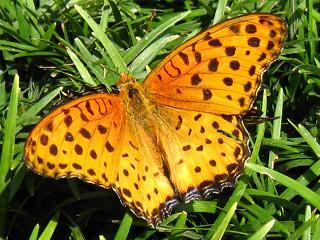Argyreus hyperbius: (16, 6, 290, 225)
butterfly: (18, 8, 292, 227)
